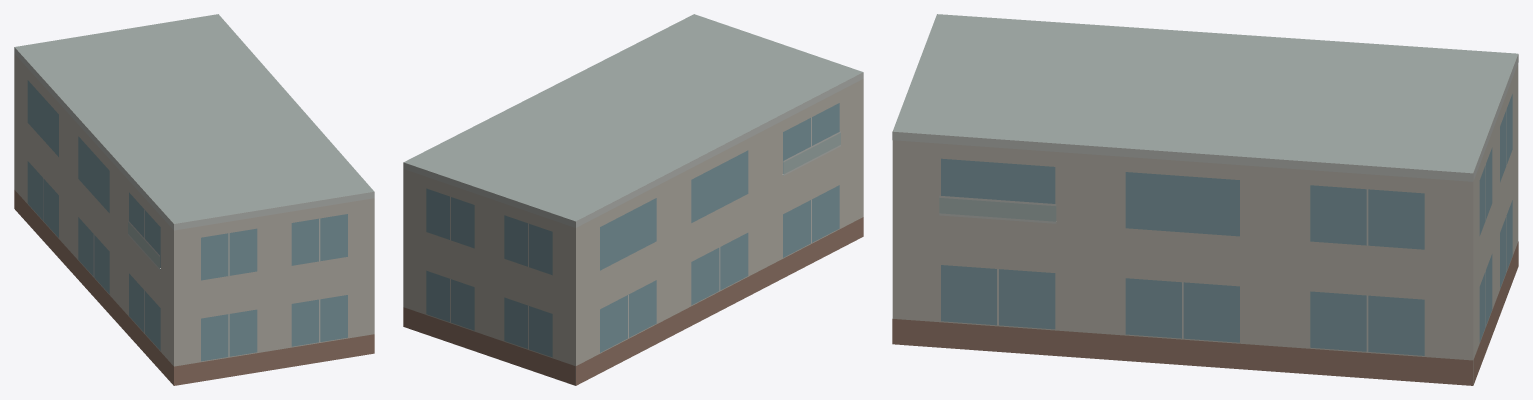
Rendered from survey-upis-32667629.glb.
3 renders of one model, left to right at view 1: azimuth 30°, elevation 25°; view 2: azimuth 150°, elevation 25°; view 3: azimuth 270°, elevation 25°, orthographic. The views are drawn at different scales.
Parts seen in each view (by area): view 1: survey-upis-32667629.tmp; view 2: survey-upis-32667629.tmp; view 3: survey-upis-32667629.tmp.
Part boxes in pixels (left/top/right/bottom): survey-upis-32667629.tmp: left=14, top=14, right=374, bottom=385; survey-upis-32667629.tmp: left=403, top=14, right=863, bottom=385; survey-upis-32667629.tmp: left=892, top=14, right=1518, bottom=385.
Bounding box in the file's own units: 9.82 × 6.1 × 16.3.
